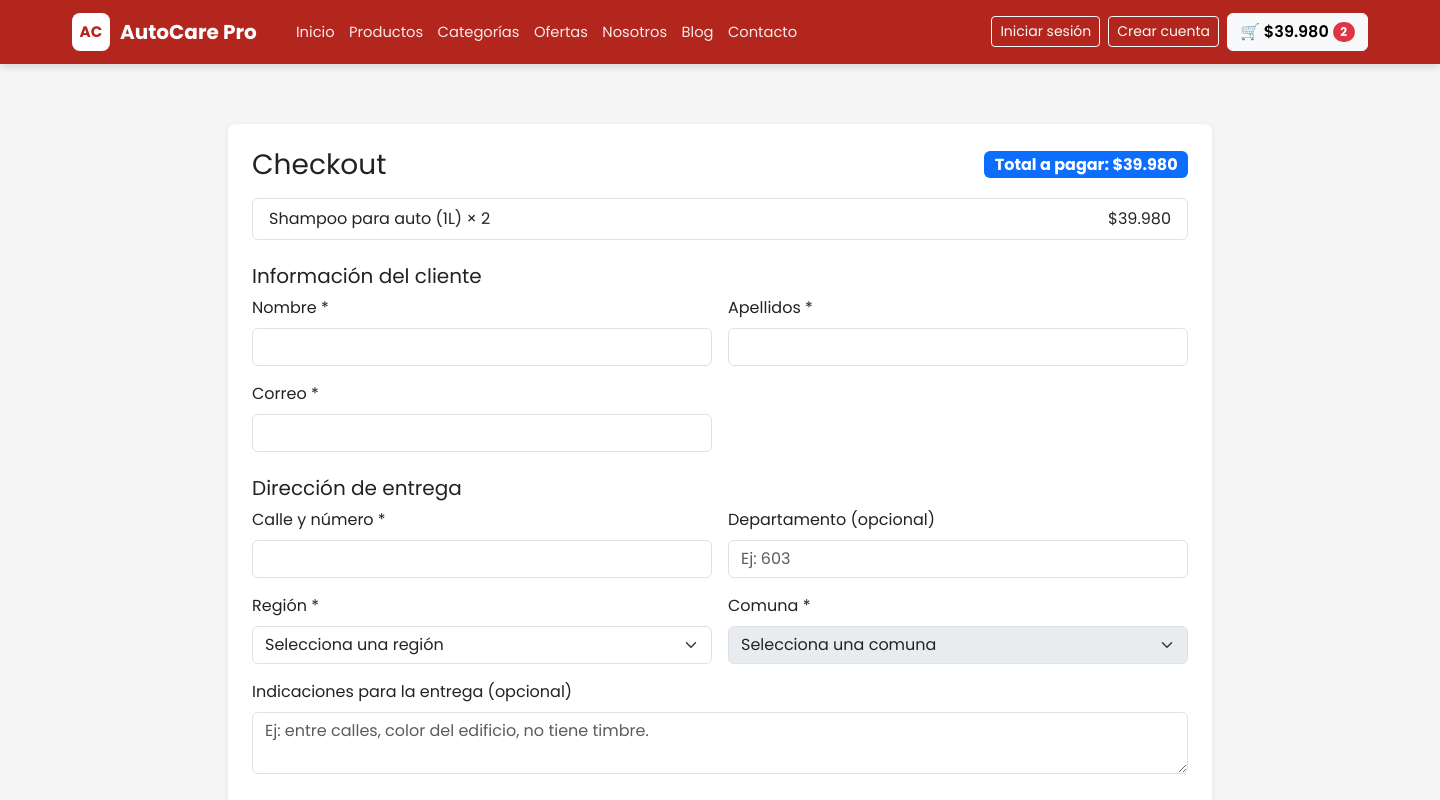
Test case: Checkout y resultado de la compra › pago aprobado: crea la orden, descuenta stock, vacía el carrito y muestra la boleta
This screenshot has width=1440, height=800.
Type "Vicente" into the field labelled "Nombre *" at (482, 347), box left=252, top=328, right=712, bottom=366
Type "Villalobos" into the field labelled "Apellidos *" at (958, 347), box left=728, top=328, right=1188, bottom=366
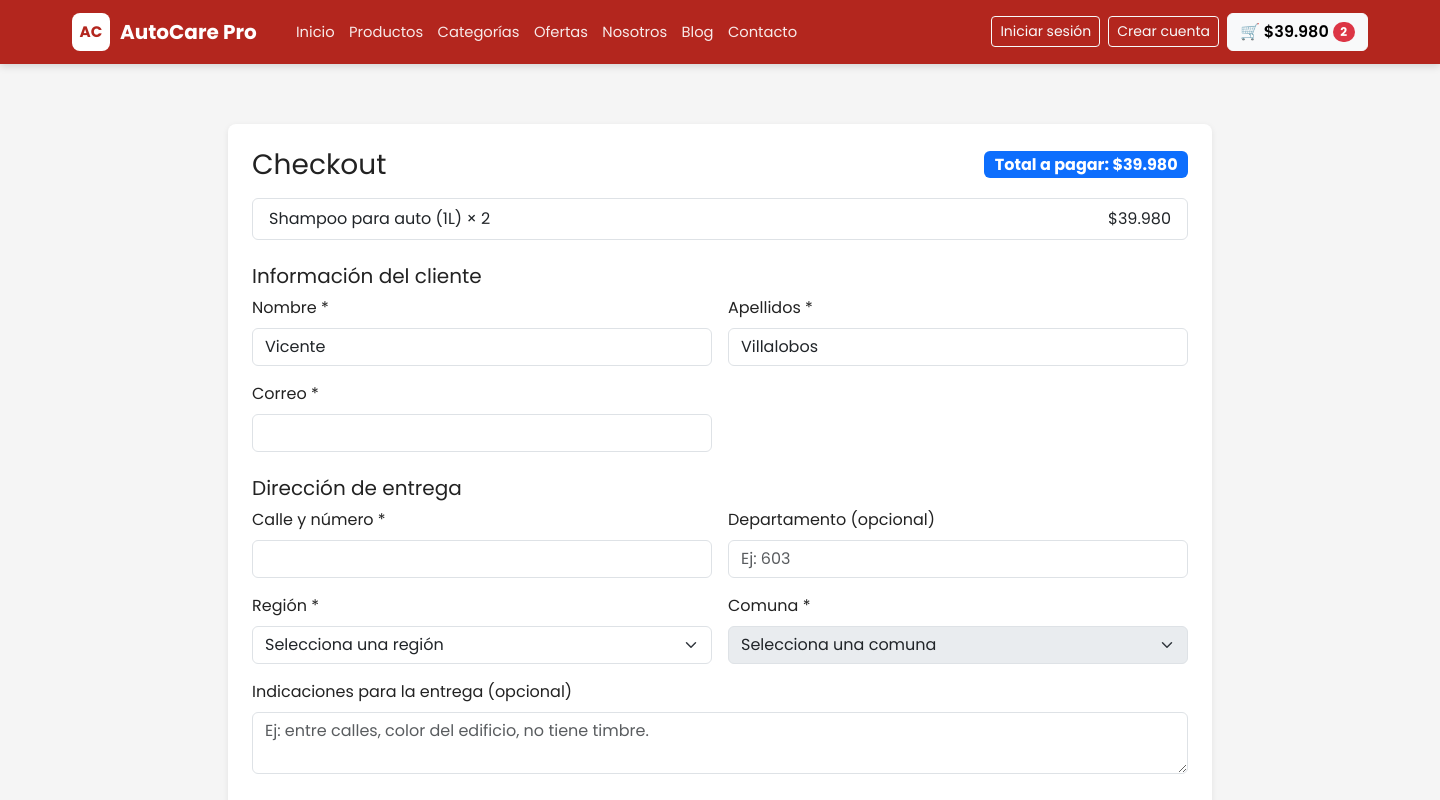
Type "vicente@duoc.cl" into the field labelled "Correo *" at (482, 433), box left=252, top=414, right=712, bottom=452
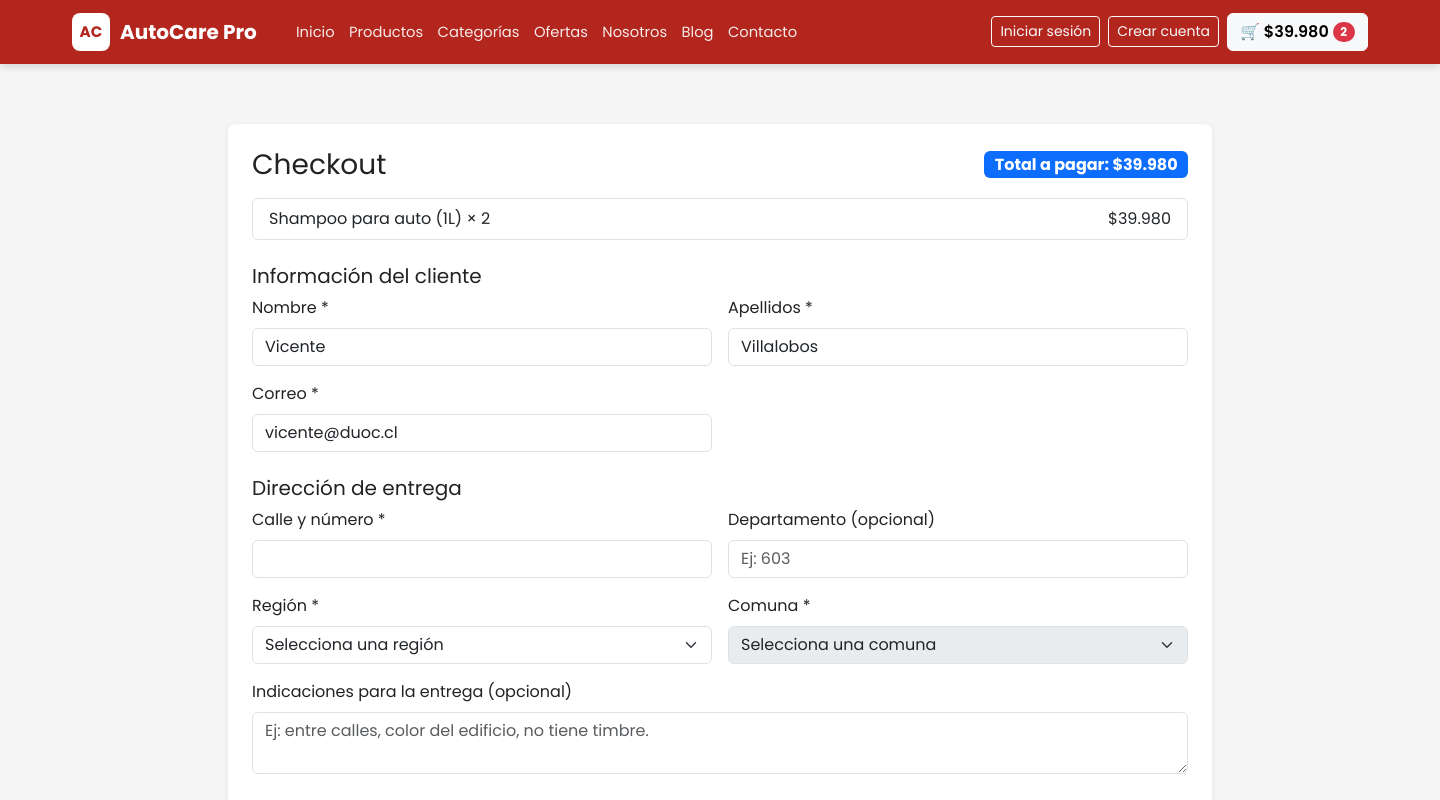
Type "Av. Siempre Viva 742" into the field labelled "Calle y número *" at (482, 559), box left=252, top=540, right=712, bottom=578
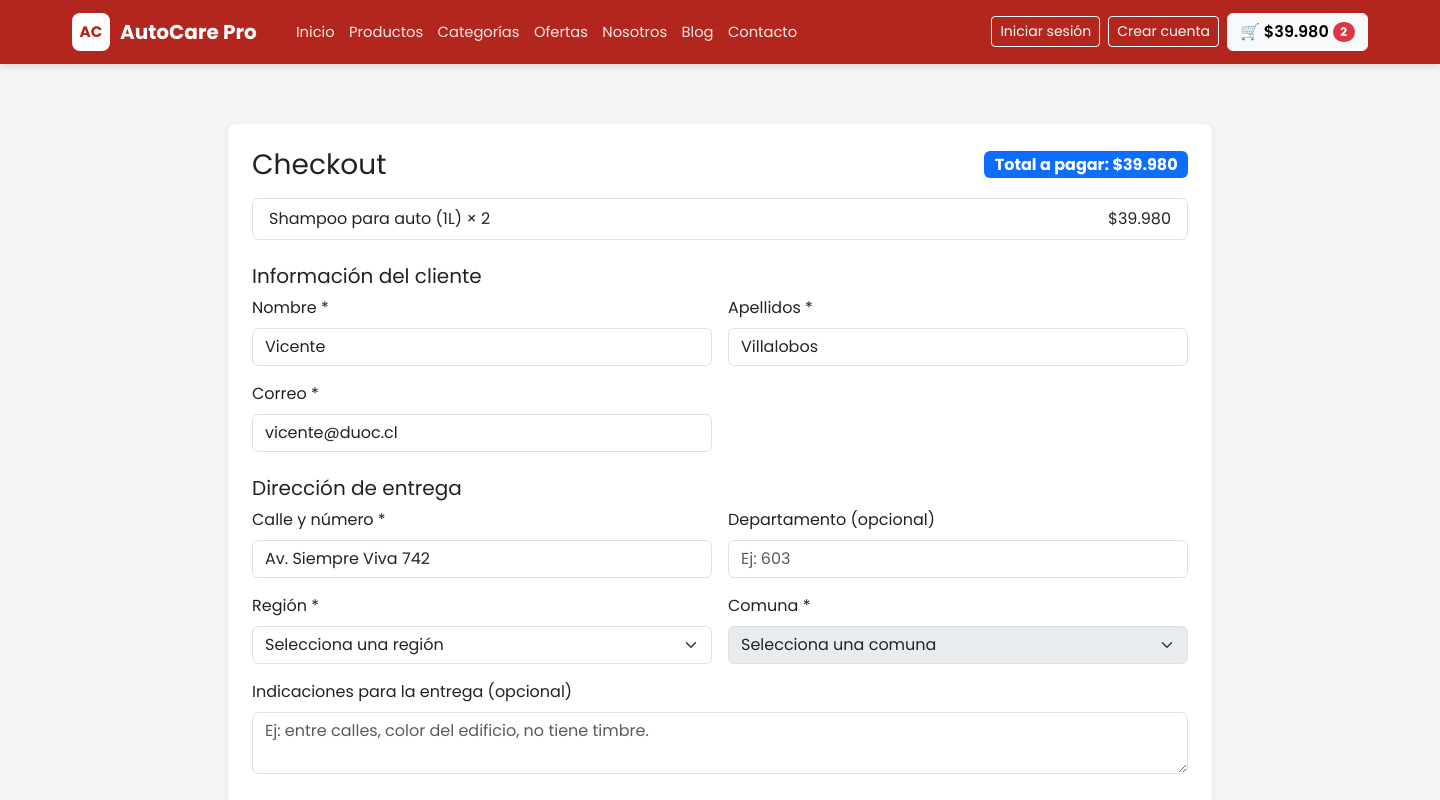
Select "Región Metropolitana" in the dropdown labelled "Región *" at (482, 645), box left=252, top=626, right=712, bottom=664
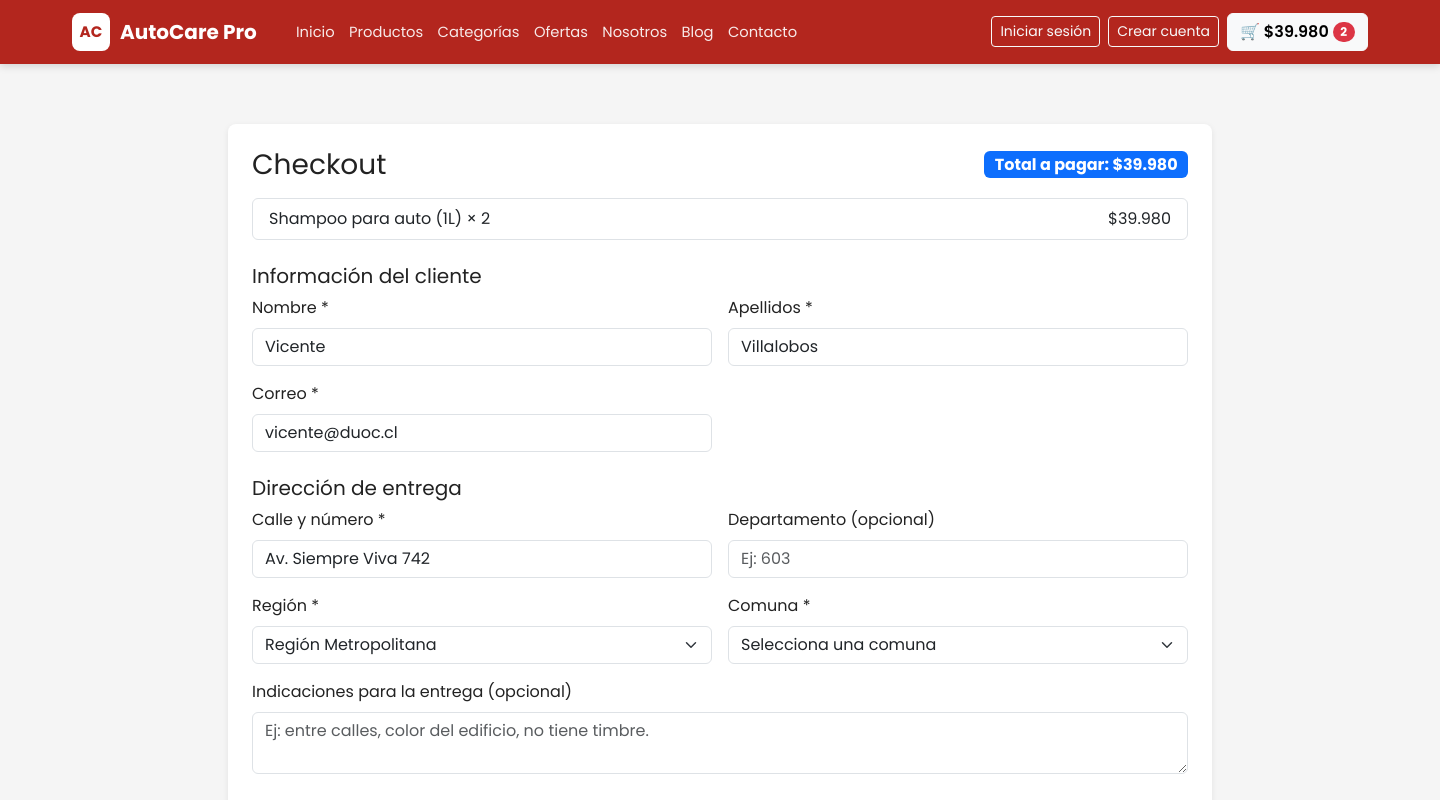
Select "Ñuñoa" in the dropdown labelled "Comuna *" at (958, 645), box left=728, top=626, right=1188, bottom=664
(page scrolled)
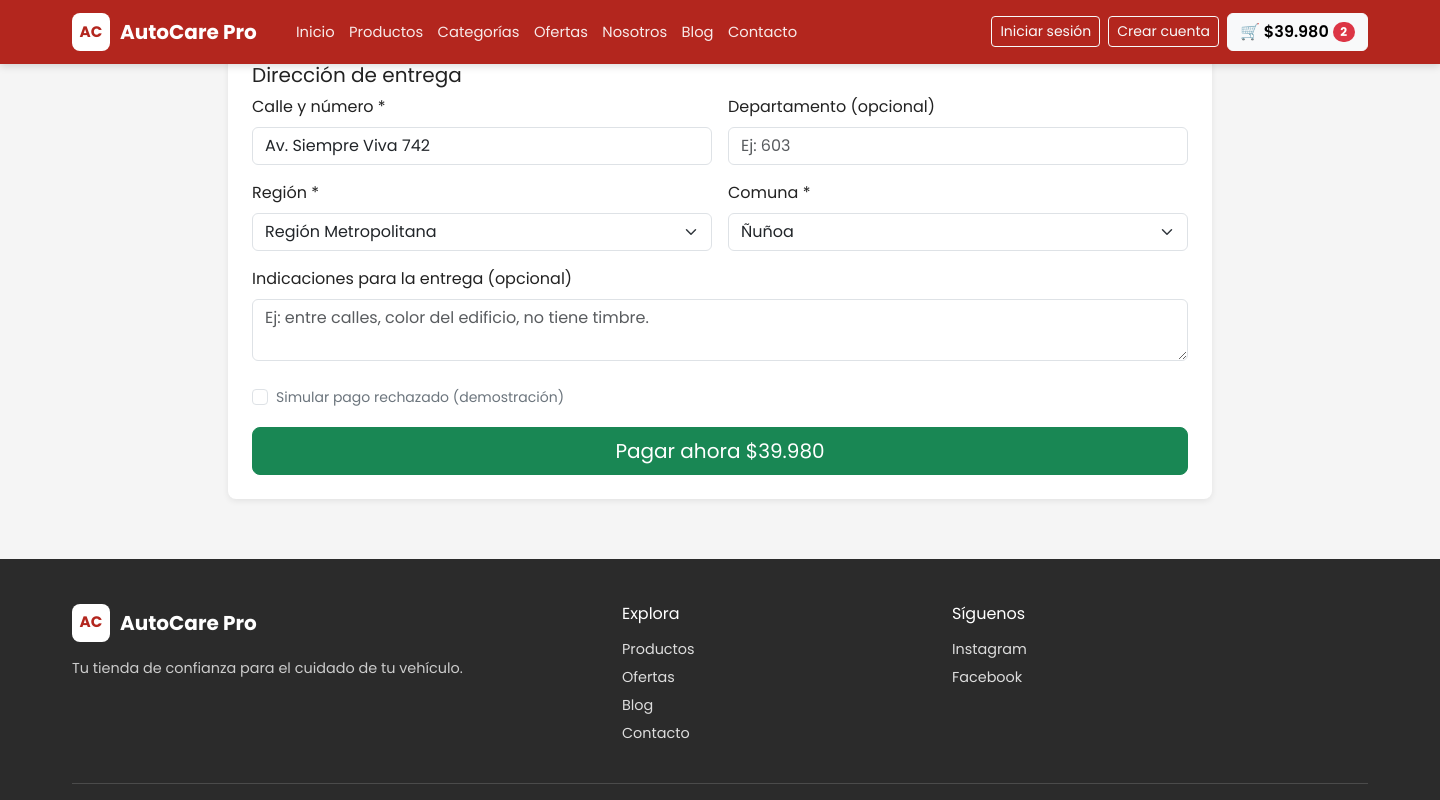
Click the button "Pagar ahora $39.980" at (720, 451), box left=252, top=427, right=1188, bottom=475
(page scrolled)
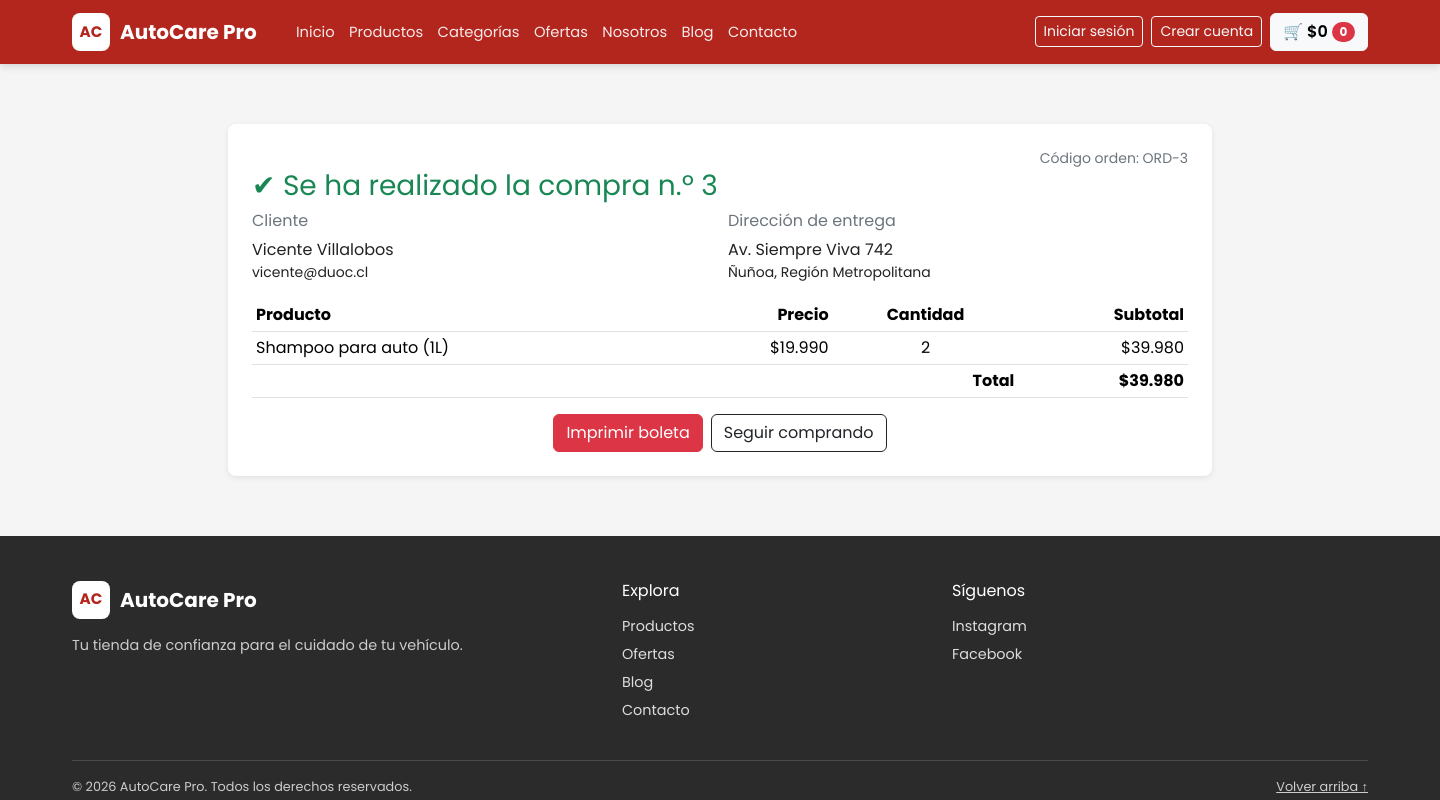
Expected: the column heading with test id "total-orden" reads "$39.980", left=1119, top=369, right=1184, bottom=392
Result: the heading "✔ Se ha realizado la compra n.º 3" is shown at left=252, top=166, right=718, bottom=205
Result: the text with test id "contador" reads "0" at left=1339, top=23, right=1347, bottom=40
